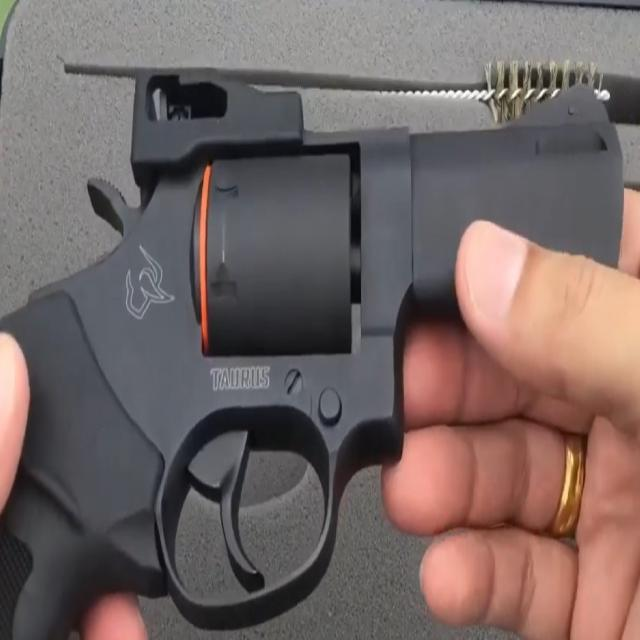revolver: (0, 44, 639, 638)
